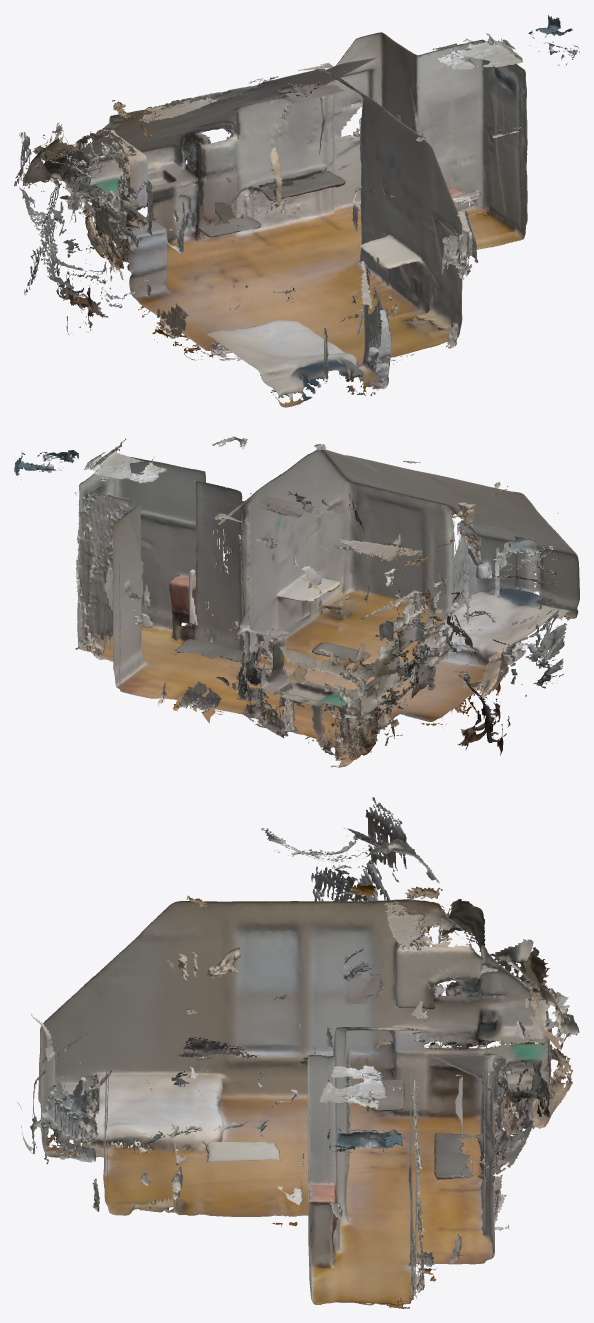
File: scan-f89a218a8523.glb
3 renders of one model, top to bottom at view 1: azimuth 30°, elevation 25°; view 2: azimuth 150°, elevation 25°; view 3: azimuth 270°, elevation 25°, orthographic. The views are drawn at different scales.
Visible parts, largest first — view 1: toSpace; view 2: toSpace; view 3: toSpace.
Boxes of the visible parts, x1,y1,x2,y2 form: toSpace: (14, 15, 579, 407); toSpace: (14, 436, 579, 767); toSpace: (16, 797, 579, 1308).
Bounding box in the file's own units: 8.85 × 3.34 × 6.67.
